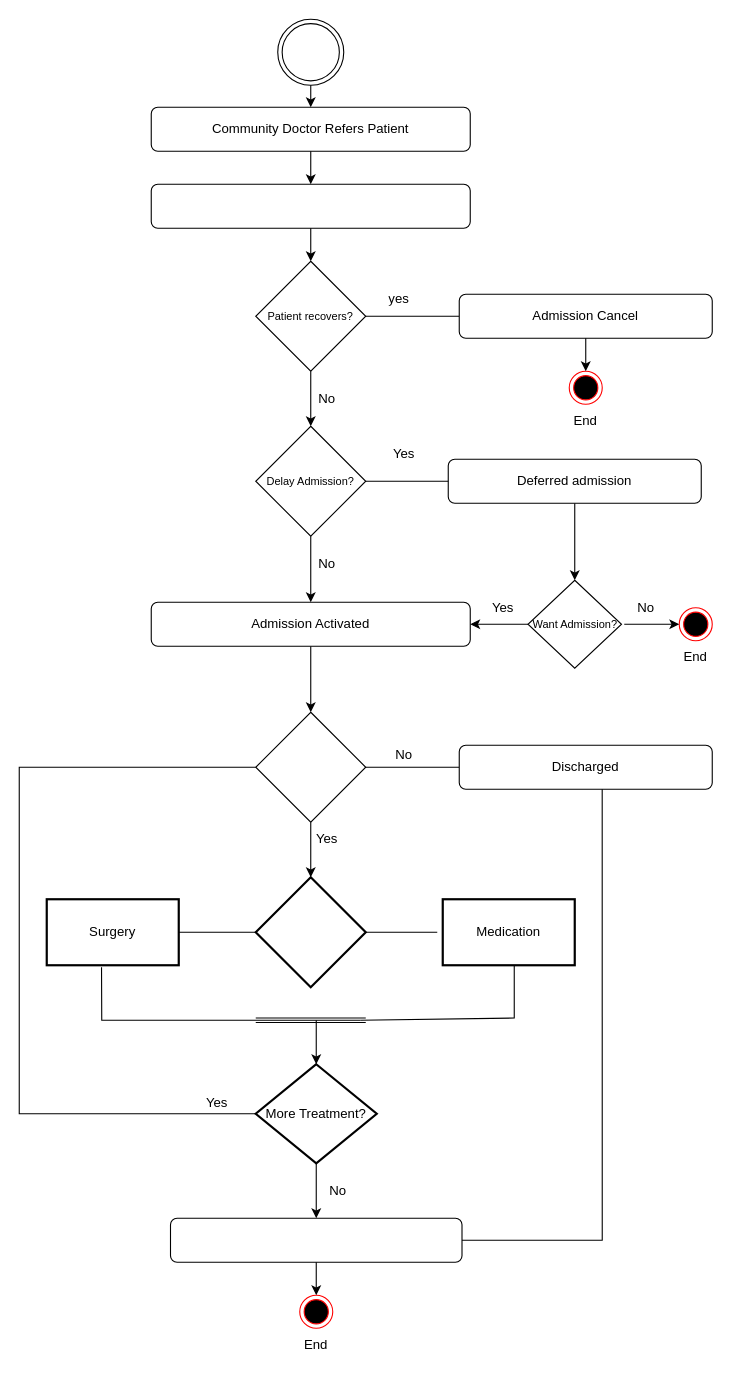
Some shapes in this 748 by 1381 pixel diagram are drawn without their labels. The centre of each missing label's shape, as x and y in pixels:
Discharge: the point at 315,1239
Need Diagnosis?: the point at 310,766
Record planned admission: the point at 310,205
Start: the point at 310,51
Treatable: the point at 310,932
